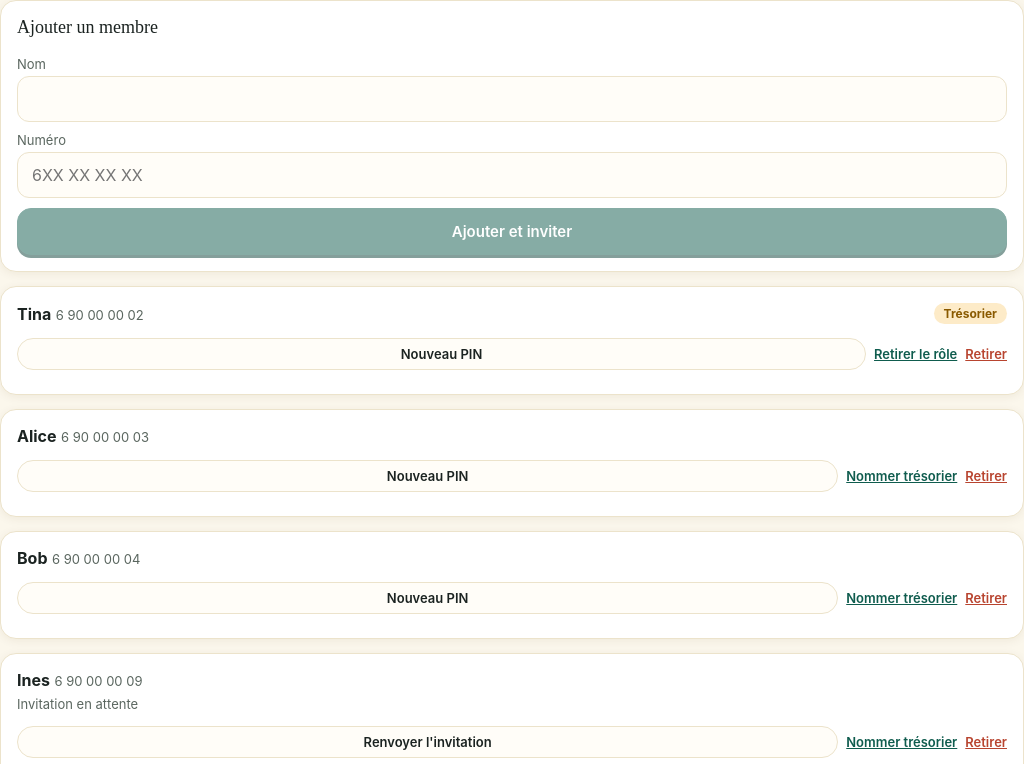
Scenario: onglet Membres › ajout : l'erreur de la base est affichée
Step 1. Type "Bob bis" into the field labelled "Nom" → (512,99), box [17,76,1007,122]
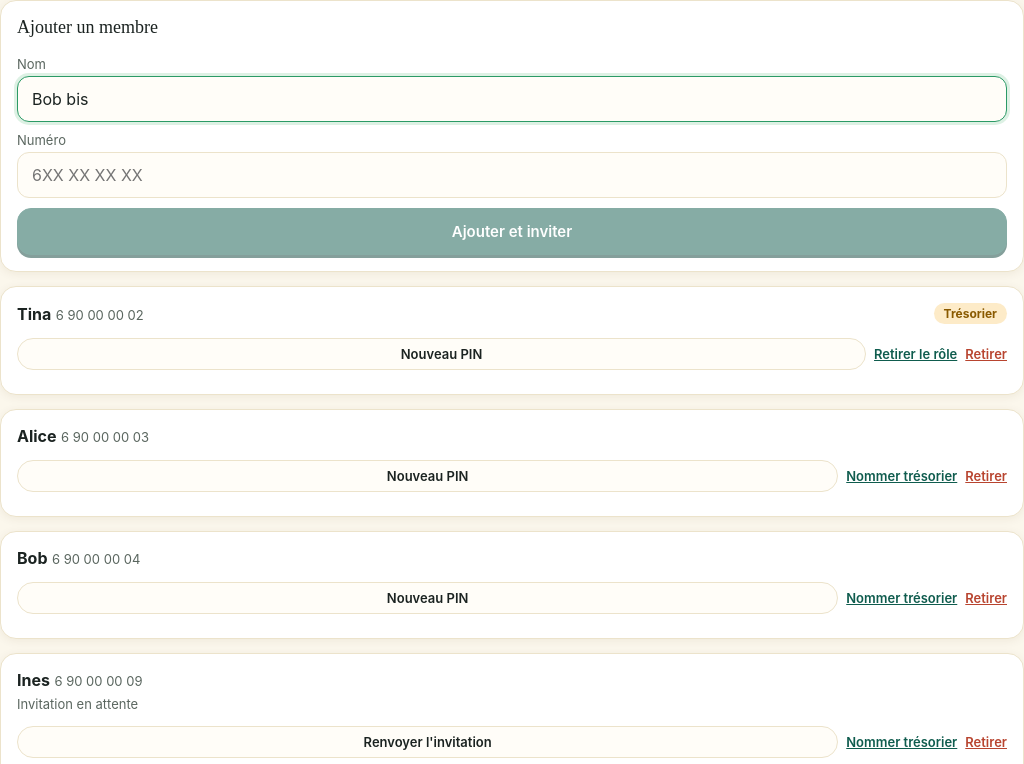
Step 2. Type "690000004" into the field labelled "Numéro" → (512,175), box [17,152,1007,198]
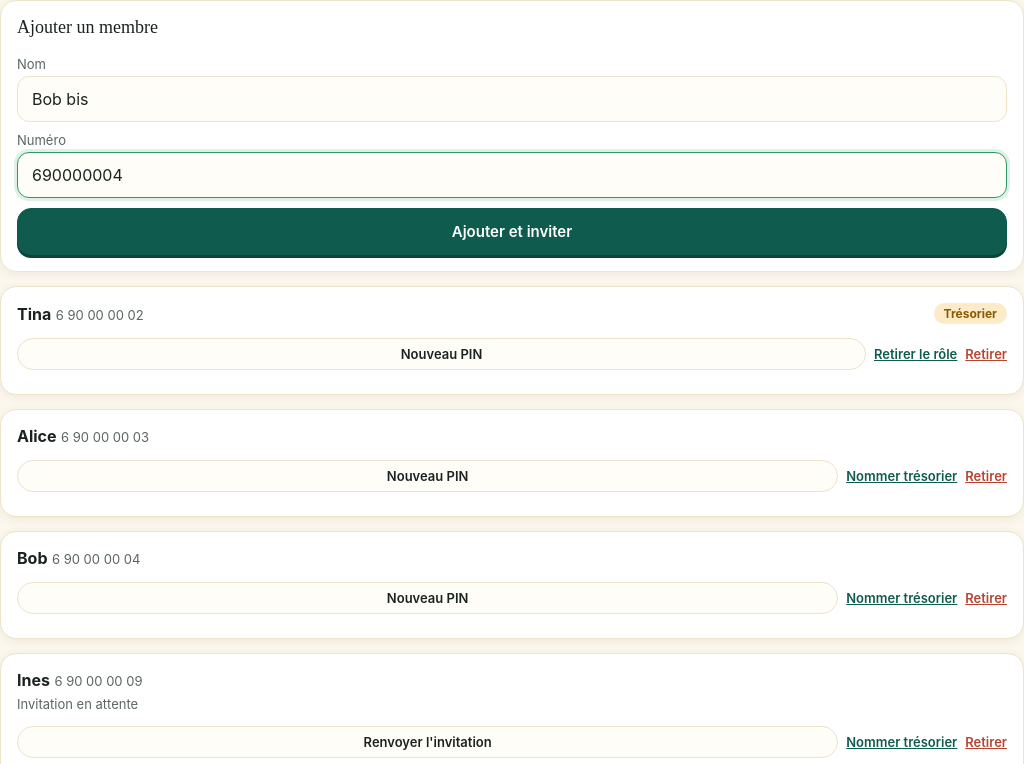
Step 3. Click the button "Ajouter et inviter" → (512,232), box [17,208,1007,255]
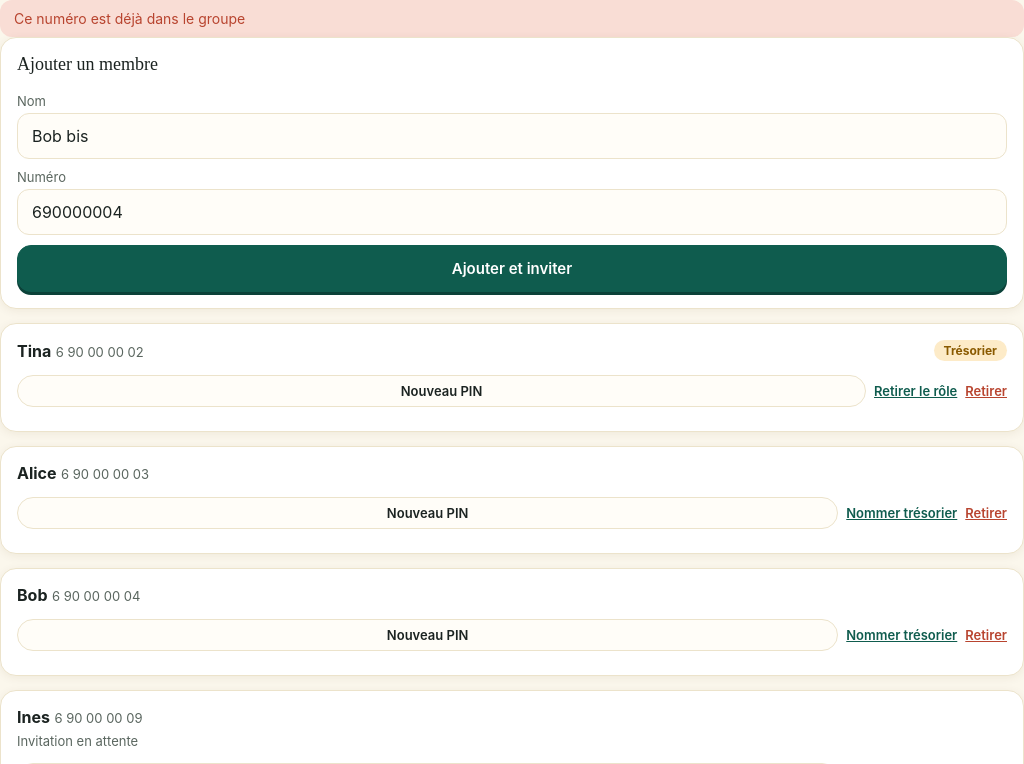
Expected: the text "Ce numéro est déjà dans le groupe" is shown, [0,0,1023,37]
